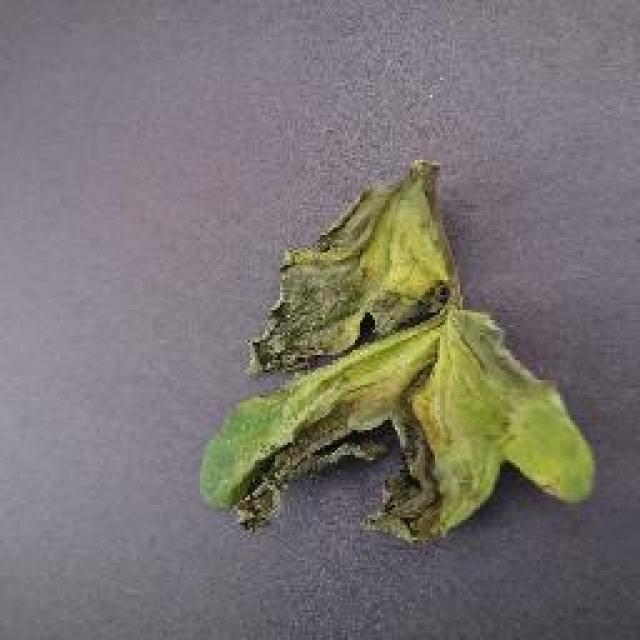Tomato late blight leaf: (205, 164, 593, 548)
